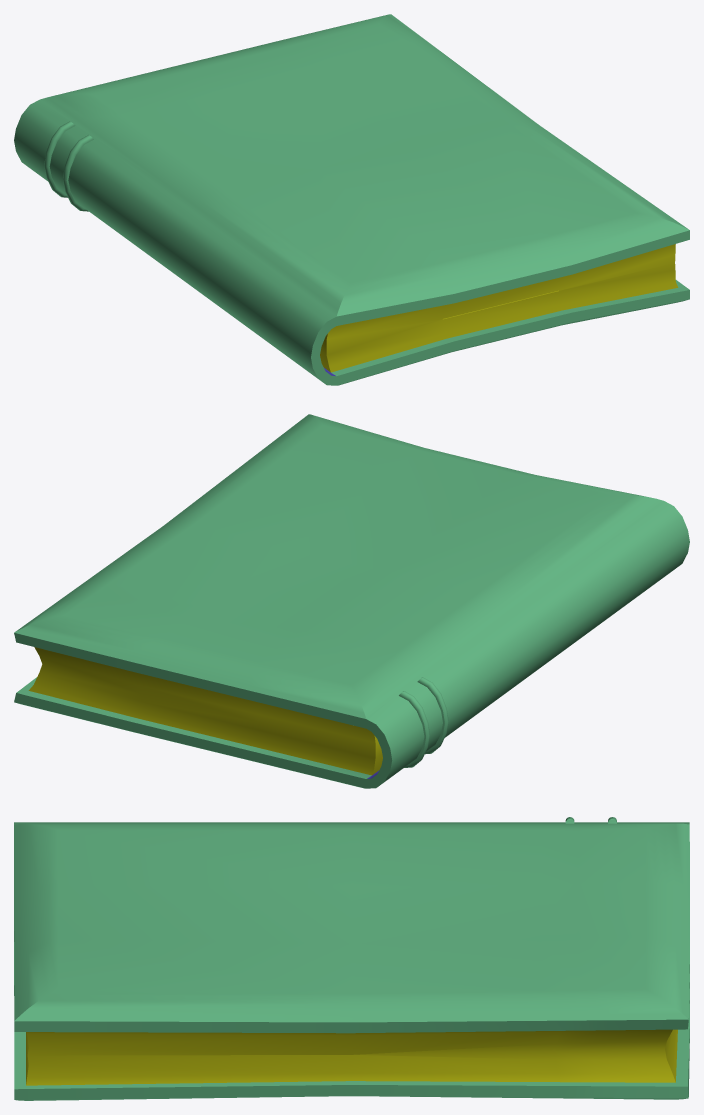
Rendered from Book_Style_05.fbx.
3 renders of one model, top to bottom at view 1: azimuth 30°, elevation 25°; view 2: azimuth 150°, elevation 25°; view 3: azimuth 270°, elevation 25°, orthographic. The views are drawn at different scales.
Parts seen in each view (by area): view 1: SetA_Book_Style_05; view 2: SetA_Book_Style_05; view 3: SetA_Book_Style_05.
Part boxes in pixels (box(x1,y1,x2,y2)): SetA_Book_Style_05: box(14, 14, 689, 385); SetA_Book_Style_05: box(14, 414, 689, 788); SetA_Book_Style_05: box(14, 817, 689, 1100).
Bounding box in the file's own units: 0.0725 × 0.0166 × 0.0974.
